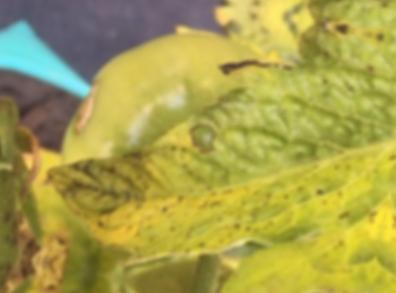Tomato Septoria leaf spot: (29, 0, 396, 293)
